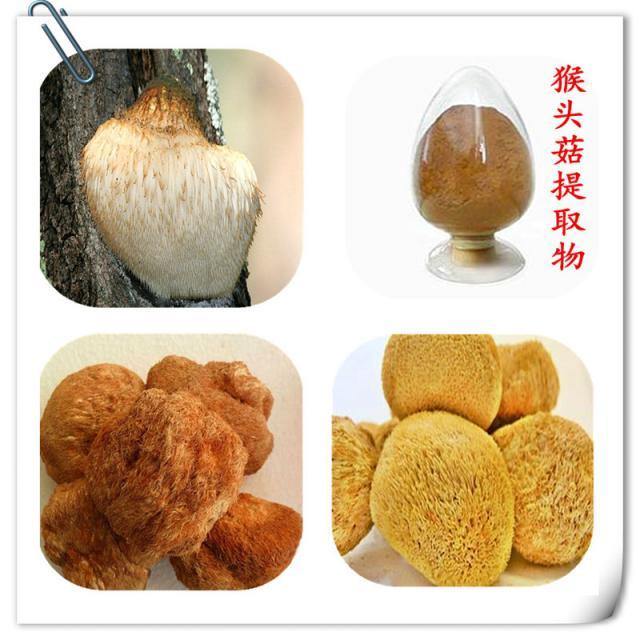Hericium erinaceus: (80, 91, 264, 299), (374, 404, 516, 585), (95, 390, 247, 551), (494, 412, 589, 565), (145, 355, 274, 465), (43, 481, 153, 591), (174, 493, 297, 590), (46, 362, 141, 478), (382, 335, 500, 423), (330, 414, 378, 555), (493, 341, 559, 428)
